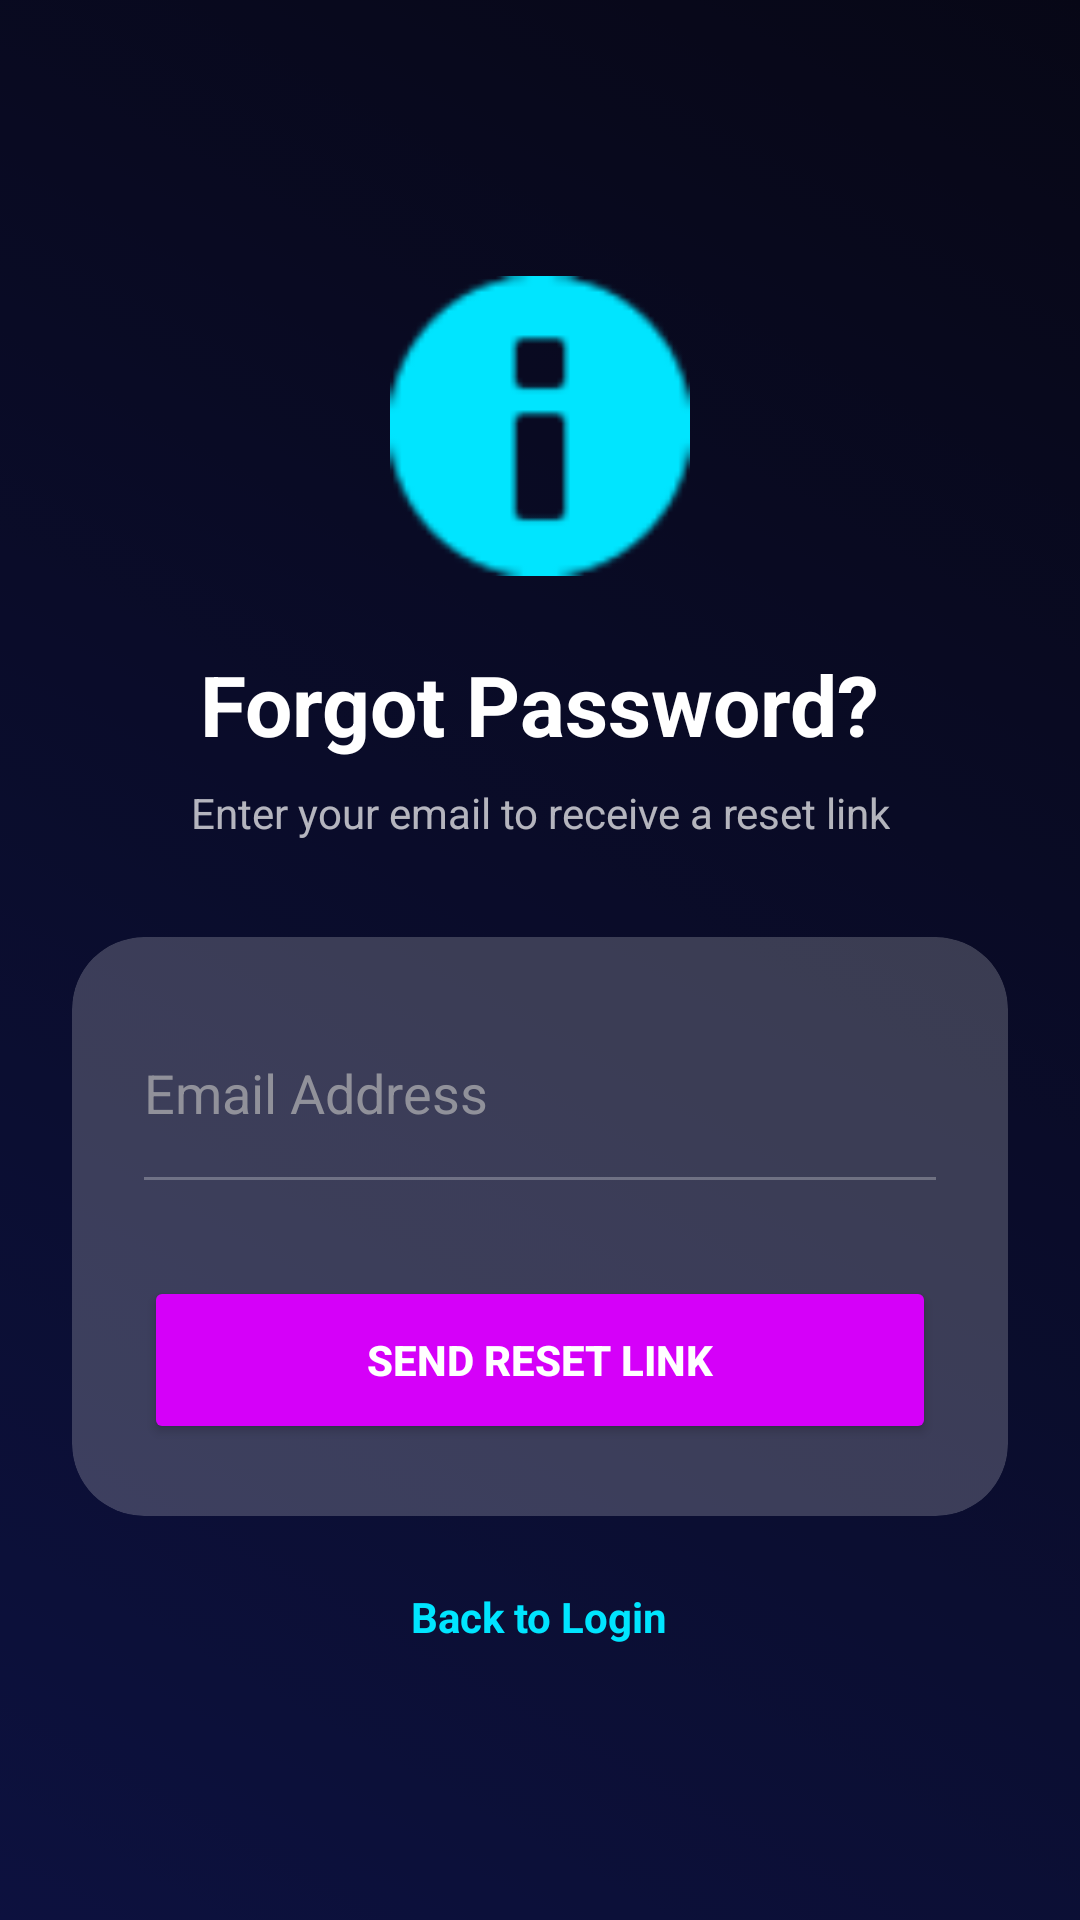

Where icons sit on this 1080 × 1920 app screen, as (x1,y1,x2,y2):
info: (390,276,690,576)
